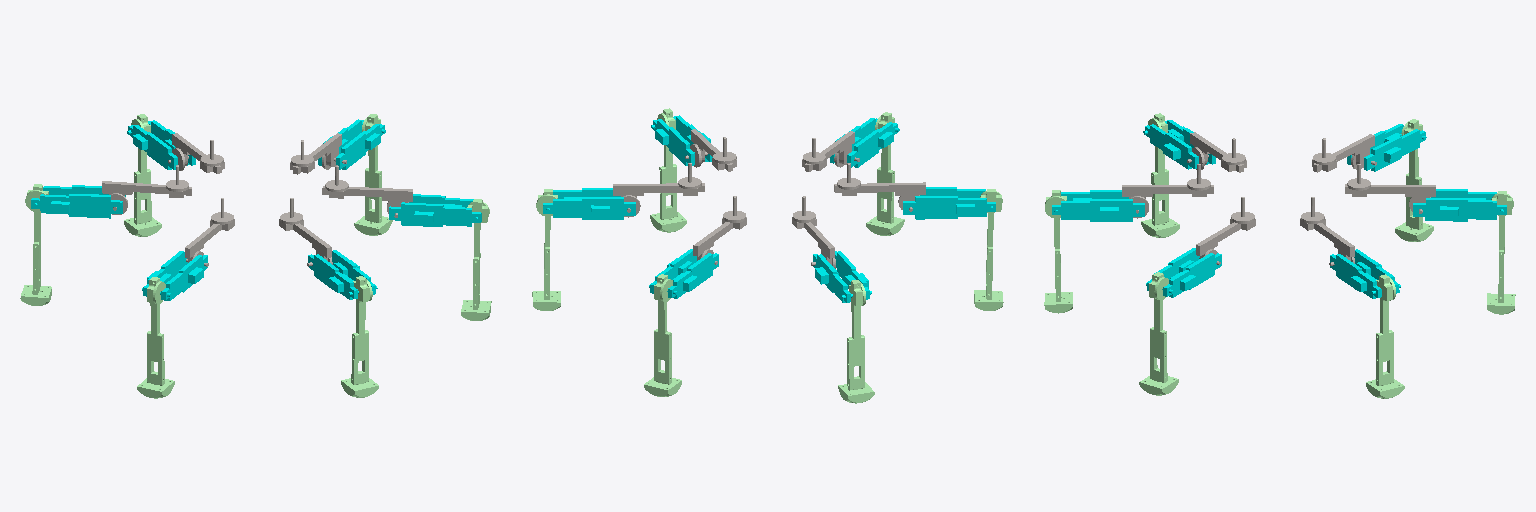
--- What the picture shows (computed from the rendered views, not written in the file) ---
3 views of the same robot in one strip: view 1: azimuth 30°, elevation 25°; view 2: azimuth 150°, elevation 25°; view 3: azimuth 270°, elevation 25° (orthographic).
Model ams_description with 19 links and 18 joints (18 continuous), rooted at base_link_ams_body, posed every joint at zero.
Links seen in each view (by area): view 1: up_leg_plate_3, up_leg_plate_6, lo_leg_plate_2, lo_leg_plate_1, up_leg_plate_2, up_leg_plate_1, lo_leg_plate_4, lo_leg_plate_5, up_leg_plate_5, up_leg_plate_4, lo_leg_plate_6, lo_leg_plate_3 (+6 smaller); view 2: up_leg_plate_4, up_leg_plate_1, lo_leg_plate_5, lo_leg_plate_6, up_leg_plate_5, lo_leg_plate_2, lo_leg_plate_3, up_leg_plate_6, up_leg_plate_2, up_ro_base_4, lo_leg_plate_1, up_leg_plate_3 (+6 smaller); view 3: up_leg_plate_2, up_leg_plate_5, lo_leg_plate_4, lo_leg_plate_3, up_leg_plate_3, up_leg_plate_4, lo_leg_plate_1, up_leg_plate_6, up_leg_plate_1, lo_leg_plate_6, up_ro_base_2, lo_leg_plate_2 (+6 smaller).
Link boxes in pixels (x1=…): up_leg_plate_3: x1=389, y1=194, x2=481, y2=226; up_leg_plate_6: x1=31, y1=185, x2=125, y2=218; lo_leg_plate_2: x1=341, y1=276, x2=378, y2=397; lo_leg_plate_1: x1=137, y1=277, x2=174, y2=398; up_leg_plate_2: x1=308, y1=250, x2=377, y2=299; up_leg_plate_1: x1=142, y1=251, x2=207, y2=300; lo_leg_plate_4: x1=354, y1=114, x2=392, y2=235; lo_leg_plate_5: x1=124, y1=114, x2=161, y2=236; up_leg_plate_5: x1=127, y1=120, x2=195, y2=169; up_leg_plate_4: x1=318, y1=119, x2=385, y2=169; lo_leg_plate_6: x1=20, y1=184, x2=51, y2=305; lo_leg_plate_3: x1=461, y1=199, x2=491, y2=320; up_leg_plate_4: x1=543, y1=188, x2=635, y2=219; up_leg_plate_1: x1=903, y1=187, x2=995, y2=219; lo_leg_plate_5: x1=644, y1=274, x2=681, y2=396; lo_leg_plate_6: x1=838, y1=280, x2=874, y2=403; up_leg_plate_5: x1=649, y1=249, x2=718, y2=298; lo_leg_plate_2: x1=866, y1=112, x2=904, y2=235; lo_leg_plate_3: x1=650, y1=108, x2=686, y2=232; up_leg_plate_6: x1=813, y1=251, x2=871, y2=302; up_leg_plate_2: x1=830, y1=118, x2=899, y2=167; up_ro_base_4: x1=613, y1=163, x2=704, y2=217; lo_leg_plate_1: x1=974, y1=189, x2=1003, y2=310; up_leg_plate_3: x1=651, y1=115, x2=712, y2=165; up_leg_plate_2: x1=1052, y1=190, x2=1144, y2=221; up_leg_plate_5: x1=1413, y1=189, x2=1506, y2=221; lo_leg_plate_4: x1=1366, y1=274, x2=1404, y2=398; lo_leg_plate_3: x1=1139, y1=272, x2=1178, y2=395; up_leg_plate_3: x1=1146, y1=248, x2=1221, y2=297; up_leg_plate_4: x1=1330, y1=249, x2=1400, y2=298; lo_leg_plate_1: x1=1141, y1=113, x2=1179, y2=237; up_leg_plate_6: x1=1347, y1=124, x2=1426, y2=171; up_leg_plate_1: x1=1143, y1=120, x2=1215, y2=169; lo_leg_plate_6: x1=1395, y1=119, x2=1433, y2=241; up_ro_base_2: x1=1122, y1=164, x2=1213, y2=218; lo_leg_plate_2: x1=1044, y1=190, x2=1072, y2=313.
Size in the robot's own frame: 0.8948 by 0.9986 by 0.3492 metres.
Meshes: 19 distinct files referenced, 18 mesh visuals loaded (18 binary STL); not drawn: 1 (reference not matched to a file when rendering).

URDF robot description (ams_description):
<?xml version="1.0" encoding="utf-8"?>
<!-- This URDF was automatically created by SolidWorks to URDF Exporter! Originally created by Stephen Brawner ([email redacted]) 
     Commit Version: 1.6.0-4-g7f85cfe  Build Version: 1.6.7995.38578
     For more information, please see http://wiki.ros.org/sw_urdf_exporter -->
<robot
  name="ams_description">
  <link
    name="base_link_ams_body">
    <inertial>
      <origin
        xyz="-0.00366963087156155 0.000701995667722999 0.0763001812799515"
        rpy="0 0 0" />
      <mass
        value="7.03949041087589" />
      <inertia
        ixx="0.0562823848431469"
        ixy="6.52350823961147E-05"
        ixz="0.00127272178126108"
        iyy="0.0543806208699608"
        iyz="-4.7551751161772E-05"
        izz="0.0764997084464421" />
    </inertial>
    <visual>
      <origin
        xyz="0 0 0"
        rpy="0 0 0" />
      <geometry>
        <mesh
          filename="package://ams_description/meshes/base_link_ams_body.STL" />
      </geometry>
      <material
        name="">
        <color
          rgba="0.909803921568627 0.450980392156863 0.0274509803921569 1" />
      </material>
    </visual>
    <collision>
      <origin
        xyz="0 0 0"
        rpy="0 0 0" />
      <geometry>
        <mesh
          filename="package://ams_description/meshes/base_link_ams_body.STL" />
      </geometry>
    </collision>
  </link>
  <link
    name="up_ro_base_1">
    <inertial>
      <origin
        xyz="-0.0573934877580956 -0.0375907524080832 0.00171699442234455"
        rpy="0 0 0" />
      <mass
        value="0.792220921601157" />
      <inertia
        ixx="0.000797413109301369"
        ixy="-0.000940315558269109"
        ixz="-0.00021366432748281"
        iyy="0.00168136597476317"
        iyz="-0.0001356610908689"
        izz="0.00219264789755939" />
    </inertial>
    <visual>
      <origin
        xyz="0 0 0"
        rpy="0 0 0" />
      <geometry>
        <mesh
          filename="package://ams_description/meshes/up_ro_base_1.STL" />
      </geometry>
      <material
        name="">
        <color
          rgba="0.776470588235294 0.756862745098039 0.737254901960784 1" />
      </material>
    </visual>
    <collision>
      <origin
        xyz="0 0 0"
        rpy="0 0 0" />
      <geometry>
        <mesh
          filename="package://ams_description/meshes/up_ro_base_1.STL" />
      </geometry>
    </collision>
  </link>
  <joint
    name="upper_rotator_base_1"
    type="continuous">
    <origin
      xyz="-0.140694633633681 -0.0951373324759484 -0.0244486337866378"
      rpy="0 0 0" />
    <parent
      link="base_link_ams_body" />
    <child
      link="up_ro_base_1" />
    <axis
      xyz="0 0 -1" />
  </joint>
  <link
    name="up_leg_plate_1">
    <inertial>
      <origin
        xyz="-0.0702704741671833 -0.0439317314896261 -0.000353407312746384"
        rpy="0 0 0" />
      <mass
        value="0.530232120075523" />
      <inertia
        ixx="0.000369565216261245"
        ixy="-0.000435592786374811"
        ixz="-3.31851606253388E-06"
        iyy="0.000779048488450506"
        iyz="-2.10701296942298E-06"
        izz="0.00101474396918016" />
    </inertial>
    <visual>
      <origin
        xyz="0 0 0"
        rpy="0 0 0" />
      <geometry>
        <mesh
          filename="package://ams_description/meshes/up_leg_plate_1.STL" />
      </geometry>
      <material
        name="">
        <color
          rgba="0 1 1 1" />
      </material>
    </visual>
    <collision>
      <origin
        xyz="0 0 0"
        rpy="0 0 0" />
      <geometry>
        <mesh
          filename="package://ams_description/meshes/up_leg_plate_1.STL" />
      </geometry>
    </collision>
  </link>
  <joint
    name="upper_leg_plate_1"
    type="continuous">
    <origin
      xyz="-0.110287681804008 -0.070024544570443 -0.0275513662133623"
      rpy="0 0 0" />
    <parent
      link="up_ro_base_1" />
    <child
      link="up_leg_plate_1" />
    <axis
      xyz="-0.536011516920109 0.844210669044761 0" />
  </joint>
  <link
    name="lo_leg_plate_1">
    <inertial>
      <origin
        xyz="0.000521031479391032 0.00539773009847189 -0.145039532705944"
        rpy="0 0 0" />
      <mass
        value="0.247186740680227" />
      <inertia
        ixx="0.000334506584215906"
        ixy="-3.0904542921829E-06"
        ixz="4.80486227611687E-06"
        iyy="0.00033741429191893"
        iyz="2.99063772289945E-06"
        izz="6.79838224324178E-05" />
    </inertial>
    <visual>
      <origin
        xyz="0 0 0"
        rpy="0 0 0" />
      <geometry>
        <mesh
          filename="package://ams_description/meshes/lo_leg_plate_1.STL" />
      </geometry>
      <material
        name="">
        <color
          rgba="0.752941176470588 1 0.752941176470588 1" />
      </material>
    </visual>
    <collision>
      <origin
        xyz="0 0 0"
        rpy="0 0 0" />
      <geometry>
        <mesh
          filename="package://ams_description/meshes/lo_leg_plate_1.STL" />
      </geometry>
    </collision>
  </link>
  <joint
    name="lower_leg_plate_1"
    type="continuous">
    <origin
      xyz="-0.145202914725033 -0.0921931425849575 -0.000733495511015259"
      rpy="0 0 0" />
    <parent
      link="up_leg_plate_1" />
    <child
      link="lo_leg_plate_1" />
    <axis
      xyz="-0.53601151692011 0.844210669044761 0" />
  </joint>
  <link
    name="up_ro_base_2">
    <inertial>
      <origin
        xyz="0.000790438893464085 -0.0686035881714666 0.0017169944223446"
        rpy="0 0 0" />
      <mass
        value="0.792220921601158" />
      <inertia
        ixx="0.00227838262269854"
        ixy="-5.46758997147288E-06"
        ixz="-6.65932117352787E-07"
        iyy="0.000200396461366002"
        iyz="-0.000253092735867381"
        izz="0.00219264789755939" />
    </inertial>
    <visual>
      <origin
        xyz="0 0 0"
        rpy="0 0 0" />
      <geometry>
        <mesh
          filename="package://ams_description/meshes/up_ro_base_2.STL" />
      </geometry>
      <material
        name="">
        <color
          rgba="0.776470588235294 0.756862745098039 0.737254901960784 1" />
      </material>
    </visual>
    <collision>
      <origin
        xyz="0 0 0"
        rpy="0 0 0" />
      <geometry>
        <mesh
          filename="package://ams_description/meshes/up_ro_base_2.STL" />
      </geometry>
    </collision>
  </link>
  <joint
    name="upper_rotator_base_2"
    type="continuous">
    <origin
      xyz="-0.0125228738735832 -0.169137332475949 -0.0244486337866378"
      rpy="0 0 0" />
    <parent
      link="base_link_ams_body" />
    <child
      link="up_ro_base_2" />
    <axis
      xyz="0 0 -1" />
  </joint>
  <link
    name="up_leg_plate_2">
    <inertial>
      <origin
        xyz="0.0022037950568759 -0.0828778139602104 -6.18586351073119E-05"
        rpy="0 0 0" />
      <mass
        value="0.530232120075523" />
      <inertia
        ixx="0.00105561111978592"
        ixy="-2.53285499092006E-06"
        ixz="-1.81038313206717E-09"
        iyy="9.29863349626008E-05"
        iyz="-6.88050340152933E-07"
        izz="0.00101476021914339" />
    </inertial>
    <visual>
      <origin
        xyz="0 0 0"
        rpy="0 0 0" />
      <geometry>
        <mesh
          filename="package://ams_description/meshes/up_leg_plate_2.STL" />
      </geometry>
      <material
        name="">
        <color
          rgba="0 1 1 1" />
      </material>
    </visual>
    <collision>
      <origin
        xyz="0 0 0"
        rpy="0 0 0" />
      <geometry>
        <mesh
          filename="package://ams_description/meshes/up_leg_plate_2.STL" />
      </geometry>
    </collision>
  </link>
  <joint
    name="upper_leg_plate_2"
    type="continuous">
    <origin
      xyz="-0.000343735944726559 -0.130639547785501 -0.0275513662133623"
      rpy="0 0 0" />
    <parent
      link="up_ro_base_2" />
    <child
      link="up_leg_plate_2" />
    <axis
      xyz="-0.999996538468321 0.0026311692033576 0" />
  </joint>
  <link
    name="lo_leg_plate_2">
    <inertial>
      <origin
        xyz="-0.00126866461867856 0.00337578319896448 -0.145038623678139"
        rpy="0 0 0" />
      <mass
        value="0.247186740890811" />
      <inertia
        ixx="0.000339375731835337"
        ixy="-1.91239377913789E-08"
        ixz="6.58121676654046E-08"
        iyy="0.000332542055803957"
        iyz="5.73091091761492E-06"
        izz="6.79869108596362E-05" />
    </inertial>
    <visual>
      <origin
        xyz="0 0 0"
        rpy="0 0 0" />
      <geometry>
        <mesh
          filename="package://ams_description/meshes/lo_leg_plate_2.STL" />
      </geometry>
      <material
        name="">
        <color
          rgba="0.752941176470588 1 0.752941176470588 1" />
      </material>
    </visual>
    <collision>
      <origin
        xyz="0 0 0"
        rpy="0 0 0" />
      <geometry>
        <mesh
          filename="package://ams_description/meshes/lo_leg_plate_2.STL" />
      </geometry>
    </collision>
  </link>
  <joint
    name="lower_leg_plate_2"
    type="continuous">
    <origin
      xyz="-0.000452560976900662 -0.171999356700101 -0.000128387357964194"
      rpy="0 0 0" />
    <parent
      link="up_leg_plate_2" />
    <child
      link="lo_leg_plate_2" />
    <axis
      xyz="-0.999996538468321 0.0026311692033576 0" />
  </joint>
  <link
    name="up_ro_base_3">
    <inertial>
      <origin
        xyz="0.0562682572378789 -0.0392550675844072 0.0017169944223446"
        rpy="0 0 0" />
      <mass
        value="0.792220921601158" />
      <inertia
        ixx="0.000908404476783491"
        ixy="0.000984878369543542"
        ixz="0.000205501952030032"
        iyy="0.00157037460728106"
        iyz="-0.000147733964024078"
        izz="0.00219264789755939" />
    </inertial>
    <visual>
      <origin
        xyz="0 0 0"
        rpy="0 0 0" />
      <geometry>
        <mesh
          filename="package://ams_description/meshes/up_ro_base_3.STL" />
      </geometry>
      <material
        name="">
        <color
          rgba="0.776470588235294 0.756862745098039 0.737254901960784 1" />
      </material>
    </visual>
    <collision>
      <origin
        xyz="0 0 0"
        rpy="0 0 0" />
      <geometry>
        <mesh
          filename="package://ams_description/meshes/up_ro_base_3.STL" />
      </geometry>
    </collision>
  </link>
  <joint
    name="upper_rotator_base_3"
    type="continuous">
    <origin
      xyz="0.153626283849091 -0.0759724321484452 -0.0244486337866378"
      rpy="0 0 0" />
    <parent
      link="base_link_ams_body" />
    <child
      link="up_ro_base_3" />
    <axis
      xyz="0 0 -1" />
  </joint>
  <link
    name="up_leg_plate_3">
    <inertial>
      <origin
        xyz="0.0670411128681085 -0.0487149516204006 -0.000497843422927649"
        rpy="0 0 0" />
      <mass
        value="0.530232120075523" />
      <inertia
        ixx="0.000420991855937563"
        ixy="0.000456228289441604"
        ixz="4.49615433097423E-06"
        iyy="0.000727638351218307"
        iyz="-3.23225495240932E-06"
        izz="0.00101472746673604" />
    </inertial>
    <visual>
      <origin
        xyz="0 0 0"
        rpy="0 0 0" />
      <geometry>
        <mesh
          filename="package://ams_description/meshes/up_leg_plate_3.STL" />
      </geometry>
      <material
        name="">
        <color
          rgba="0 1 1 1" />
      </material>
    </visual>
    <collision>
      <origin
        xyz="0 0 0"
        rpy="0 0 0" />
      <geometry>
        <mesh
          filename="package://ams_description/meshes/up_leg_plate_3.STL" />
      </geometry>
    </collision>
  </link>
  <joint
    name="upper_leg_plate_3"
    type="continuous">
    <origin
      xyz="0.106074486848602 -0.0762562314817997 -0.0275513662133623"
      rpy="0 0 0" />
    <parent
      link="up_ro_base_3" />
    <child
      link="up_leg_plate_3" />
    <axis
      xyz="0.583712733326697 0.811960248381826 0" />
  </joint>
  <link
    name="lo_leg_plate_3">
    <inertial>
      <origin
        xyz="-0.00366321057279761 -0.00140312268001164 -0.145061814968663"
        rpy="0 0 0" />
      <mass
        value="0.247186740979628" />
      <inertia
        ixx="0.000334922219936456"
        ixy="3.20235775212423E-06"
        ixz="-2.8208280943544E-06"
        iyy="0.000337073119344979"
        iyz="2.09036580027435E-06"
        izz="6.79093559125571E-05" />
    </inertial>
    <visual>
      <origin
        xyz="0 0 0"
        rpy="0 0 0" />
      <geometry>
        <mesh
          filename="package://ams_description/meshes/lo_leg_plate_3.STL" />
      </geometry>
      <material
        name="">
        <color
          rgba="0.752941176470588 1 0.752941176470588 1" />
      </material>
    </visual>
    <collision>
      <origin
        xyz="0 0 0"
        rpy="0 0 0" />
      <geometry>
        <mesh
          filename="package://ams_description/meshes/lo_leg_plate_3.STL" />
      </geometry>
    </collision>
  </link>
  <joint
    name="lower_leg_plate_3"
    type="continuous">
    <origin
      xyz="0.139654642668825 -0.100396778483235 -0.00103327209917738"
      rpy="0 0 0" />
    <parent
      link="up_leg_plate_3" />
    <child
      link="lo_leg_plate_3" />
    <axis
      xyz="-0.583712733326696 -0.811960248381827 0" />
  </joint>
  <link
    name="up_ro_base_4">
    <inertial>
      <origin
        xyz="0.058377110050749 0.0360442800700365 0.00171699442234455"
        rpy="0 0 0" />
      <mass
        value="0.792220921601159" />
      <inertia
        ixx="0.000747827472536165"
        ixy="-0.000915370552314847"
        ixz="0.000217211784813457"
        iyy="0.00173095161152838"
        iyz="0.000129905415408956"
        izz="0.00219264789755939" />
    </inertial>
    <visual>
      <origin
        xyz="0 0 0"
        rpy="0 0 0" />
      <geometry>
        <mesh
          filename="package://ams_description/meshes/up_ro_base_4.STL" />
      </geometry>
      <material
        name="">
        <color
          rgba="0.776470588235294 0.756862745098039 0.737254901960784 1" />
      </material>
    </visual>
    <collision>
      <origin
        xyz="0 0 0"
        rpy="0 0 0" />
      <geometry>
        <mesh
          filename="package://ams_description/meshes/up_ro_base_4.STL" />
      </geometry>
    </collision>
  </link>
  <joint
    name="upper_rotator_base_4"
    type="continuous">
    <origin
      xyz="0.153626283849091 0.0720275678515569 -0.0244486337866378"
      rpy="0 0 0" />
    <parent
      link="base_link_ams_body" />
    <child
      link="up_ro_base_4" />
    <axis
      xyz="0 0 -1" />
  </joint>
  <link
    name="up_leg_plate_4">
    <inertial>
      <origin
        xyz="0.0709020386190089 0.0428951269038922 0.000902320128256404"
        rpy="0 0 0" />
      <mass
        value="0.530232120075523" />
      <inertia
        ixx="0.000346663255288008"
        ixy="-0.000423996481870186"
        ixz="-8.61308247945563E-06"
        iyy="0.00080204296476219"
        iyz="-5.151129614842E-06"
        izz="0.00101465145384171" />
    </inertial>
    <visual>
      <origin
        xyz="0 0 0"
        rpy="0 0 0" />
      <geometry>
        <mesh
          filename="package://ams_description/meshes/up_leg_plate_4.STL" />
      </geometry>
      <material
        name="">
        <color
          rgba="0 1 1 1" />
      </material>
    </visual>
    <collision>
      <origin
        xyz="0 0 0"
        rpy="0 0 0" />
      <geometry>
        <mesh
          filename="package://ams_description/meshes/up_leg_plate_4.STL" />
      </geometry>
    </collision>
  </link>
  <joint
    name="upper_leg_plate_4"
    type="continuous">
    <origin
      xyz="0.112118782249763 0.0670536223244524 -0.0275513662133623"
      rpy="0 0 0" />
    <parent
      link="up_ro_base_4" />
    <child
      link="up_leg_plate_4" />
    <axis
      xyz="0.513270225998563 -0.858227053350909 0" />
  </joint>
  <link
    name="lo_leg_plate_4">
    <inertial>
      <origin
        xyz="0.00293667553207078 -0.00206266445868106 -0.145070463831007"
        rpy="0 0 0" />
      <mass
        value="0.247186741581664" />
      <inertia
        ixx="0.000334407650148194"
        ixy="-2.97178679852776E-06"
        ixz="2.62660251019913E-06"
        iyy="0.000337598158525899"
        iyz="1.62998776678254E-06"
        izz="6.78988848877933E-05" />
    </inertial>
    <visual>
      <origin
        xyz="0 0 0"
        rpy="0 0 0" />
      <geometry>
        <mesh
          filename="package://ams_description/meshes/lo_leg_plate_4.STL" />
      </geometry>
      <material
        name="">
        <color
          rgba="0.752941176470588 1 0.752941176470588 1" />
      </material>
    </visual>
    <collision>
      <origin
        xyz="0 0 0"
        rpy="0 0 0" />
      <geometry>
        <mesh
          filename="package://ams_description/meshes/lo_leg_plate_4.STL" />
      </geometry>
    </collision>
  </link>
  <joint
    name="lower_leg_plate_4"
    type="continuous">
    <origin
      xyz="0.147606302899828 0.0882772456920327 0.00187276193701708"
      rpy="0 0 0" />
    <parent
      link="up_leg_plate_4" />
    <child
      link="lo_leg_plate_4" />
    <axis
      xyz="0.513270225998564 -0.858227053350909 0" />
  </joint>
  <link
    name="up_ro_base_5">
    <inertial>
      <origin
        xyz="-0.000369063086281568 0.0686071490158485 0.00171699442234458"
        rpy="0 0 0" />
      <mass
        value="0.792220921601158" />
      <inertia
        ixx="0.00227823707104344"
        ixy="-1.82298568254258E-05"
        ixz="2.2204065050117E-06"
        iyy="0.000200542013021105"
        iyz="0.000253083871887114"
        izz="0.00219264789755939" />
    </inertial>
    <visual>
      <origin
        xyz="0 0 0"
        rpy="0 0 0" />
      <geometry>
        <mesh
          filename="package://ams_description/meshes/up_ro_base_5.STL" />
      </geometry>
      <material
        name="">
        <color
          rgba="0.776470588235294 0.756862745098039 0.737254901960784 1" />
      </material>
    </visual>
    <collision>
      <origin
        xyz="0 0 0"
        rpy="0 0 0" />
      <geometry>
        <mesh
          filename="package://ams_description/meshes/up_ro_base_5.STL" />
      </geometry>
    </collision>
  </link>
  <joint
    name="upper_rotator_base_5"
    type="continuous">
    <origin
      xyz="-0.0130526234556848 0.170409338333852 -0.0244486337866378"
      rpy="0 0 0" />
    <parent
      link="base_link_ams_body" />
    <child
      link="up_ro_base_5" />
    <axis
      xyz="0 0 -1" />
  </joint>
  <link
    name="up_leg_plate_5">
    <inertial>
      <origin
        xyz="-0.000851049313727537 0.0828821540413857 -0.000204984515089518"
        rpy="0 0 0" />
      <mass
        value="0.530232120075524" />
      <inertia
        ixx="0.00105554369353764"
        ixy="-8.44491598800797E-06"
        ixz="2.00028804134891E-08"
        iyy="9.30588873361509E-05"
        iyz="2.2799457723244E-06"
        izz="0.00101475509301811" />
    </inertial>
    <visual>
      <origin
        xyz="0 0 0"
        rpy="0 0 0" />
      <geometry>
        <mesh
          filename="package://ams_description/meshes/up_leg_plate_5.STL" />
      </geometry>
      <material
        name="">
        <color
          rgba="0 1 1 1" />
      </material>
    </visual>
    <collision>
      <origin
        xyz="0 0 0"
        rpy="0 0 0" />
      <geometry>
        <mesh
          filename="package://ams_description/meshes/up_leg_plate_5.STL" />
      </geometry>
    </collision>
  </link>
  <joint
    name="upper_leg_plate_5"
    type="continuous">
    <origin
      xyz="0.00114611310640983 0.130634972441331 -0.0275513662133623"
      rpy="0 0 0" />
    <parent
      link="up_ro_base_5" />
    <child
      link="up_leg_plate_5" />
    <axis
      xyz="-0.999961515931805 0.00877306419480895 0" />
  </joint>
  <link
    name="lo_leg_plate_5">
    <inertial>
      <origin
        xyz="-0.000733048653271756 -0.00120402223647867 -0.145072777383635"
        rpy="0 0 0" />
      <mass
        value="0.247186741222674" />
      <inertia
        ixx="0.000339375266762038"
        ixy="-5.93548372607366E-08"
        ixz="-6.64112116703939E-08"
        iyy="0.000332654579632198"
        iyz="-1.78551867279917E-06"
        izz="6.78748460943056E-05" />
    </inertial>
    <visual>
      <origin
        xyz="0 0 0"
        rpy="0 0 0" />
      <geometry>
        <mesh
          filename="package://ams_description/meshes/lo_leg_plate_5.STL" />
      </geometry>
      <material
        name="">
        <color
          rgba="0.752941176470588 1 0.752941176470588 1" />
      </material>
    </visual>
    <collision>
      <origin
        xyz="0 0 0"
        rpy="0 0 0" />
      <geometry>
        <mesh
          filename="package://ams_description/meshes/lo_leg_plate_5.STL" />
      </geometry>
    </collision>
  </link>
  <joint
    name="lower_leg_plate_5"
    type="continuous">
    <origin
      xyz="0.0015089624253615 0.171992854587968 -0.000425444568414618"
      rpy="0 0 0" />
    <parent
      link="up_leg_plate_5" />
    <child
      link="lo_leg_plate_5" />
    <axis
      xyz="0.999961515931805 -0.00877306419480861 0" />
  </joint>
  <link
    name="up_ro_base_6">
    <inertial>
      <origin
        xyz="-0.0541593048502493 0.0421170606973261 0.00171699442234463"
        rpy="0 0 0" />
      <mass
        value="0.792220921601158" />
      <inertia
        ixx="0.00101207704925374"
        ixy="0.00101383704156008"
        ixz="-0.000197573447380024"
        iyy="0.00146670203481081"
        iyz="0.00015818062240614"
        izz="0.00219264789755939" />
    </inertial>
    <visual>
      <origin
        xyz="0 0 0"
        rpy="0 0 0" />
      <geometry>
        <mesh
          filename="package://ams_description/meshes/up_ro_base_6.STL" />
      </geometry>
      <material
        name="">
        <color
          rgba="0.776470588235294 0.756862745098039 0.737254901960784 1" />
      </material>
    </visual>
    <collision>
      <origin
        xyz="0 0 0"
        rpy="0 0 0" />
      <geometry>
        <mesh
          filename="package://ams_description/meshes/up_ro_base_6.STL" />
      </geometry>
    </collision>
  </link>
  <joint
    name="upper_rotator_base_6"
    type="continuous">
    <origin
      xyz="-0.141224383215782 0.0964093383338535 -0.0244486337866378"
      rpy="0 0 0" />
    <parent
      link="base_link_ams_body" />
    <child
      link="up_ro_base_6" />
    <axis
      xyz="0 0 -1" />
  </joint>
  <link
    name="up_leg_plate_6">
    <inertial>
      <origin
        xyz="-0.0656652337083589 0.0505510671672107 -0.00169836757168164"
        rpy="0 0 0" />
      <mass
        value="0.530232120075524" />
      <inertia
        ixx="0.000469232078759905"
        ixy="0.000469470250599268"
        ixz="-1.47437978146024E-05"
        iyy="0.000679752011598165"
        iyz="1.18041323157065E-05"
        izz="0.00101437358353384" />
    </inertial>
    <visual>
      <origin
        xyz="0 0 0"
        rpy="0 0 0" />
      <geometry>
        <mesh
          filename="package://ams_description/meshes/up_leg_plate_6.STL" />
      </geometry>
      <material
        name="">
        <color
          rgba="0 1 1 1" />
      </material>
    </visual>
    <collision>
      <origin
        xyz="0 0 0"
        rpy="0 0 0" />
      <geometry>
        <mesh
          filename="package://ams_description/meshes/up_leg_plate_6.STL" />
      </geometry>
    </collision>
  </link>
  <joint
    name="upper_leg_plate_6"
    type="continuous">
    <origin
      xyz="-0.101982009604865 0.0816485108067083 -0.0275513662133623"
      rpy="0 0 0" />
    <parent
      link="up_ro_base_6" />
    <child
      link="up_leg_plate_6" />
    <axis
      xyz="-0.624988600786193 -0.780633876338528 0" />
  </joint>
  <link
    name="lo_leg_plate_6">
    <inertial>
      <origin
        xyz="-0.00182898460184813 0.000538840415119382 -0.145067095630318"
        rpy="0 0 0" />
      <mass
        value="0.247186741594841" />
      <inertia
        ixx="0.000335255782102311"
        ixy="3.29789269319951E-06"
        ixz="-2.87601564281665E-06"
        iyy="0.000336735963262999"
        iyz="2.23758607529635E-06"
        izz="6.79129490144783E-05" />
    </inertial>
    <visual>
      <origin
        xyz="0 0 0"
        rpy="0 0 0" />
      <geometry>
        <mesh
          filename="package://ams_description/meshes/lo_leg_plate_6.STL" />
      </geometry>
      <material
        name="">
        <color
          rgba="0.752941176470588 1 0.752941176470588 1" />
      </material>
    </visual>
    <collision>
      <origin
        xyz="0 0 0"
        rpy="0 0 0" />
      <geometry>
        <mesh
          filename="package://ams_description/meshes/lo_leg_plate_6.STL" />
      </geometry>
    </collision>
  </link>
  <joint
    name="lower_leg_plate_6"
    type="continuous">
    <origin
      xyz="-0.134240827205126 0.107475462321507 -0.00352495532761297"
      rpy="0 0 0" />
    <parent
      link="up_leg_plate_6" />
    <child
      link="lo_leg_plate_6" />
    <axis
      xyz="0.624988600786193 0.780633876338528 0" />
  </joint>
</robot>
